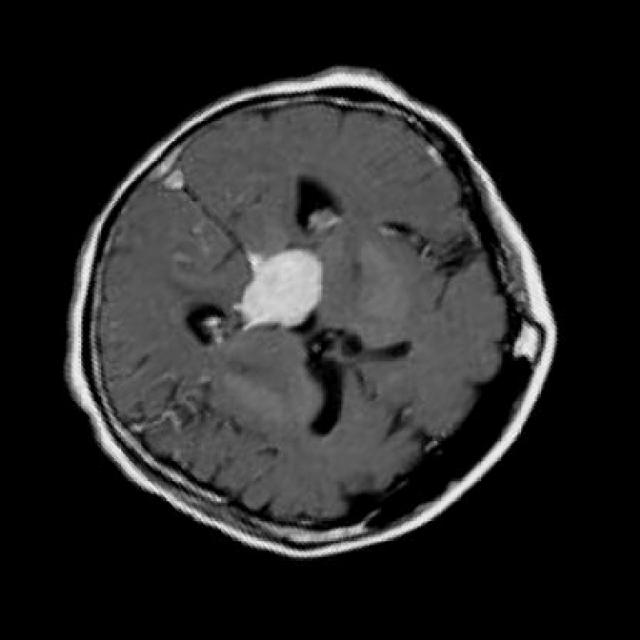Brain-Tumor: (238, 242, 344, 343)
